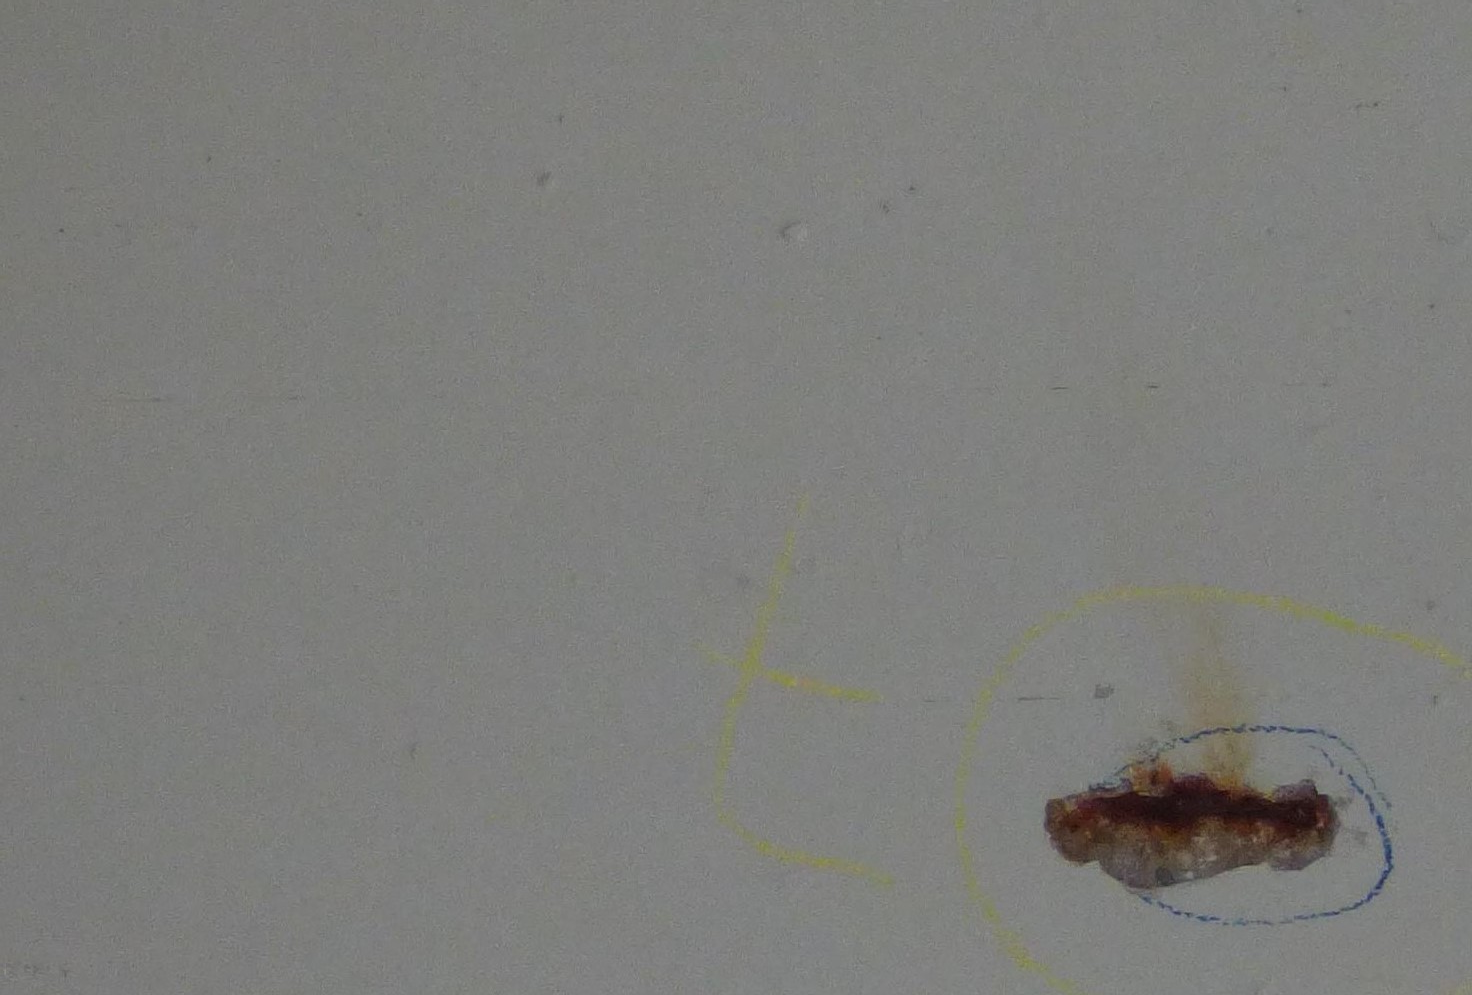Exposed reinforcement: (1091, 793, 1319, 830)
Spalling: (1043, 755, 1344, 890)
